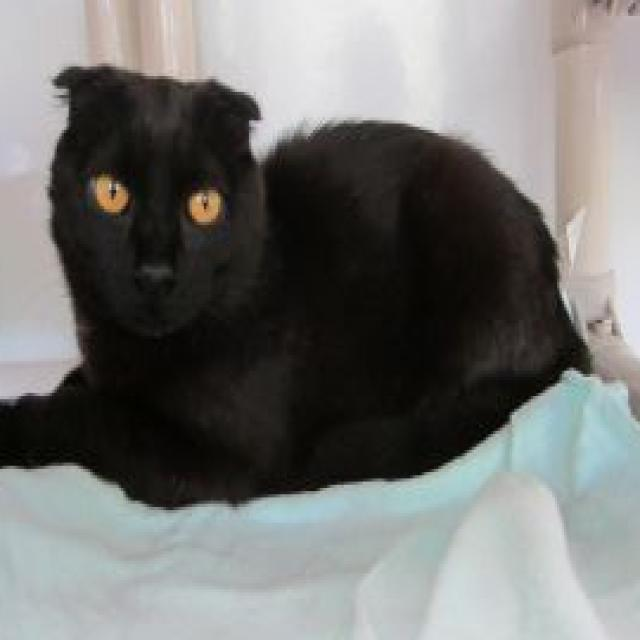Scottish Fold: (0, 57, 600, 526)
